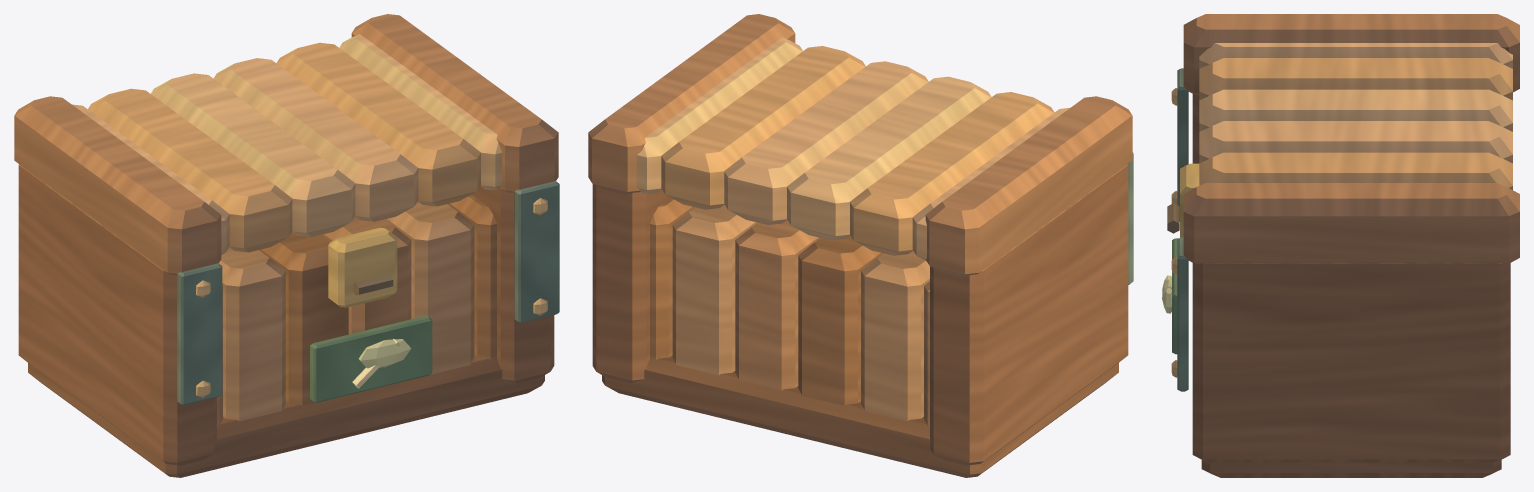
File: sale_crate.glb
The picture shows the model from 3 angles, left to right: view 1: azimuth 30°, elevation 25°; view 2: azimuth 150°, elevation 25°; view 3: azimuth 270°, elevation 25°; orthographic projection. The views are drawn at different scales.
Parts seen in each view (by area): view 1: Verkaufstruhe · Holz, Leinwand und Messing; view 2: Verkaufstruhe · Holz, Leinwand und Messing; view 3: Verkaufstruhe · Holz, Leinwand und Messing.
Boxes of the visible parts, x1,y1,x2,y2 form: Verkaufstruhe · Holz, Leinwand und Messing: [14, 14, 559, 477]; Verkaufstruhe · Holz, Leinwand und Messing: [588, 14, 1133, 477]; Verkaufstruhe · Holz, Leinwand und Messing: [1162, 14, 1519, 477].
Size of the model in its own units: 1.02 by 0.682 by 0.7871.
3 materials, 3 textured.
